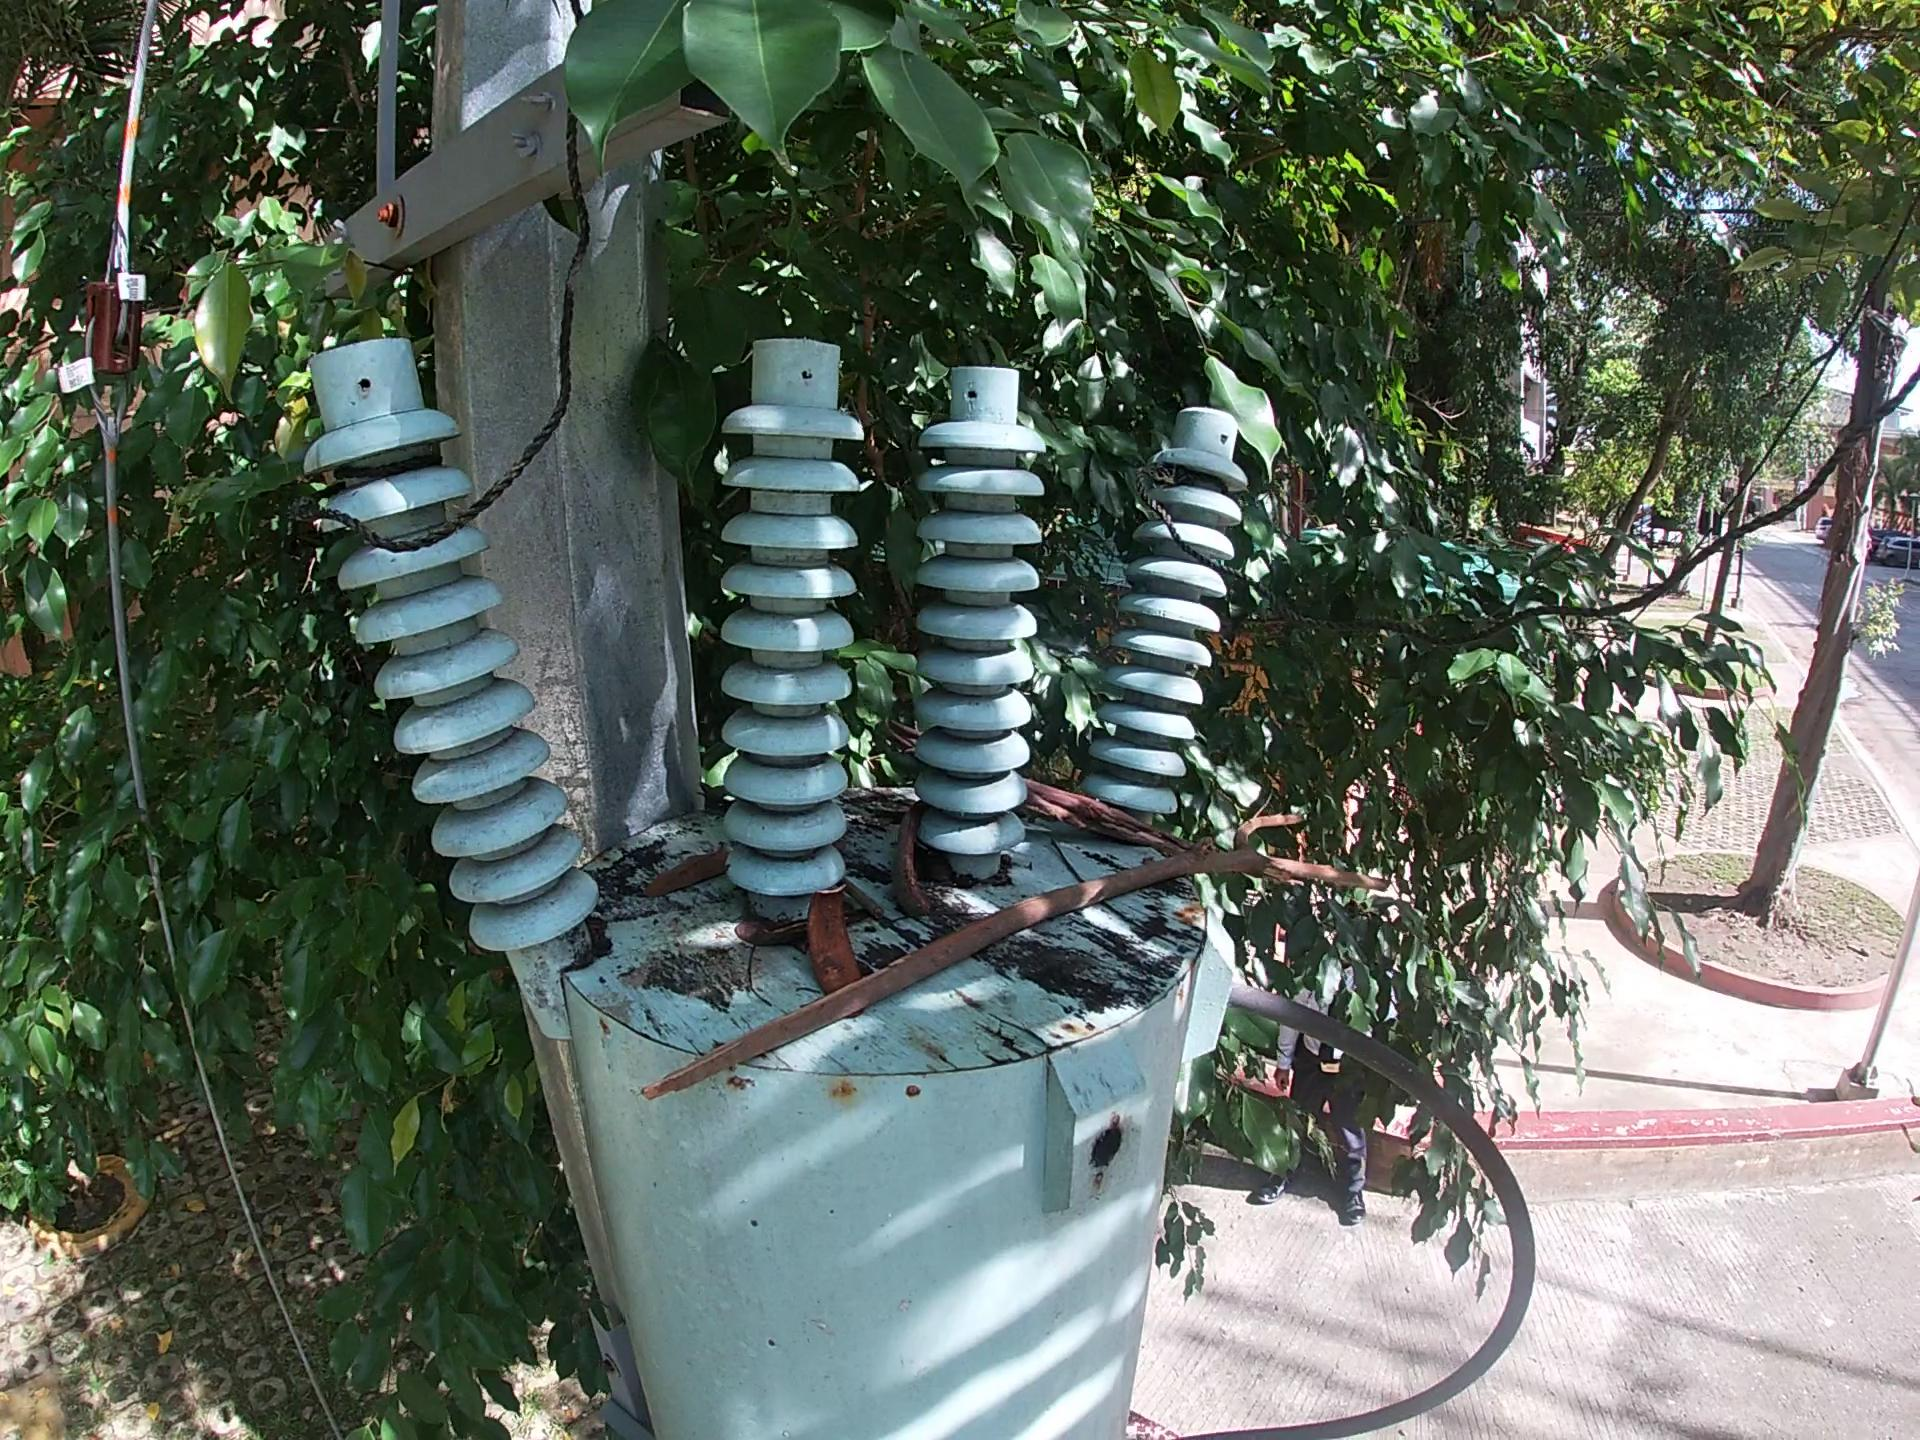leaf: (636, 838, 735, 905), (732, 908, 803, 951)
mahogany fruit: (801, 877, 860, 1000), (884, 796, 937, 920)
tree branch: (633, 805, 1398, 1104), (1017, 773, 1212, 859), (838, 874, 893, 926)
